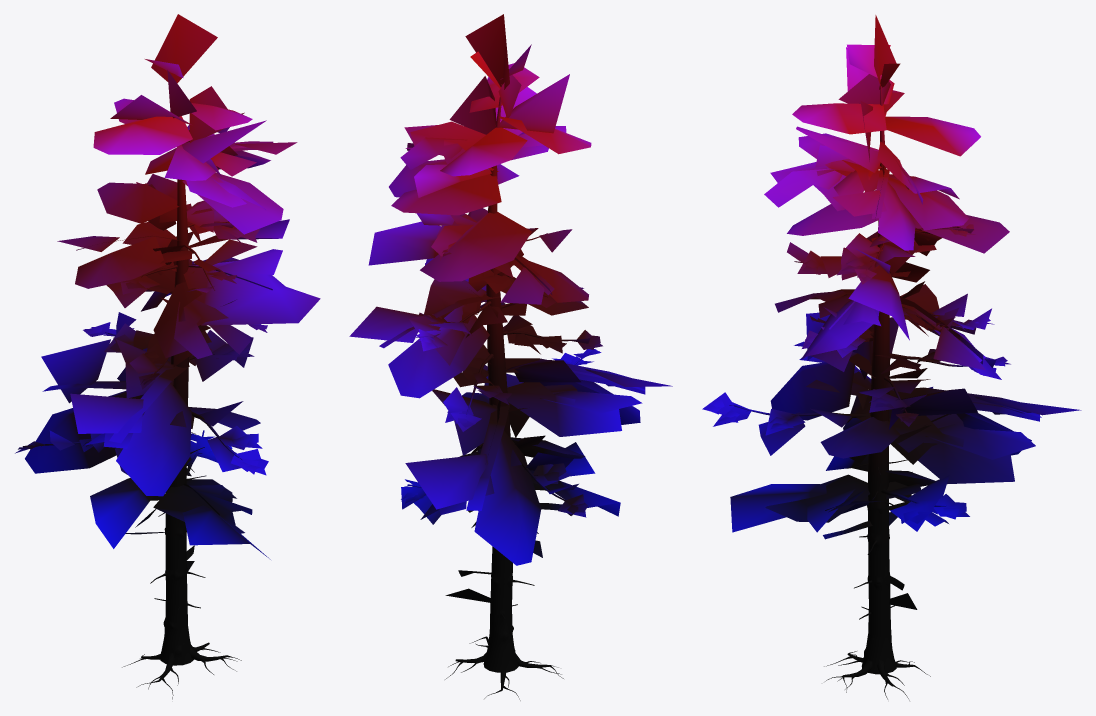
Rendered from Fir_08_Dead_Forest_advanced_cheap.FBX.
The picture shows the model from 3 angles, left to right: view 1: azimuth 30°, elevation 25°; view 2: azimuth 150°, elevation 25°; view 3: azimuth 270°, elevation 25°; orthographic projection.
Visible parts, largest first — view 1: Fir_08_leaves_LOD0, Fir_08_Dead_Forest_LOD0; view 2: Fir_08_leaves_LOD0, Fir_08_Dead_Forest_LOD0; view 3: Fir_08_leaves_LOD0, Fir_08_Dead_Forest_LOD0.
Boxes of the visible parts, x1,y1,x2,y2 form: Fir_08_leaves_LOD0: [15, 14, 320, 570]; Fir_08_Dead_Forest_LOD0: [45, 179, 241, 699]; Fir_08_leaves_LOD0: [349, 14, 672, 602]; Fir_08_Dead_Forest_LOD0: [407, 84, 582, 700]; Fir_08_leaves_LOD0: [702, 15, 1081, 609]; Fir_08_Dead_Forest_LOD0: [733, 86, 968, 700].
Size of what is drawn, in the model's own units: 7140 by 17738 by 9134.
